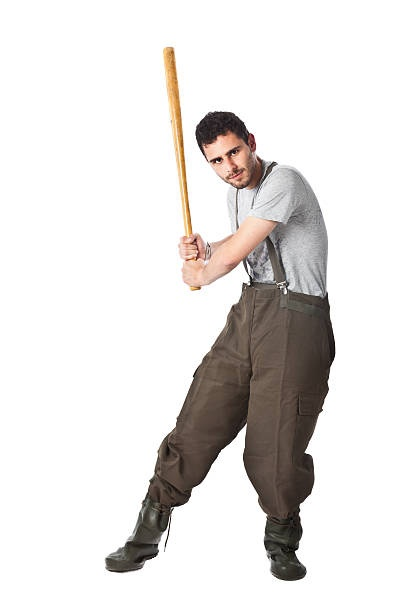bita: (158, 42, 197, 262)
